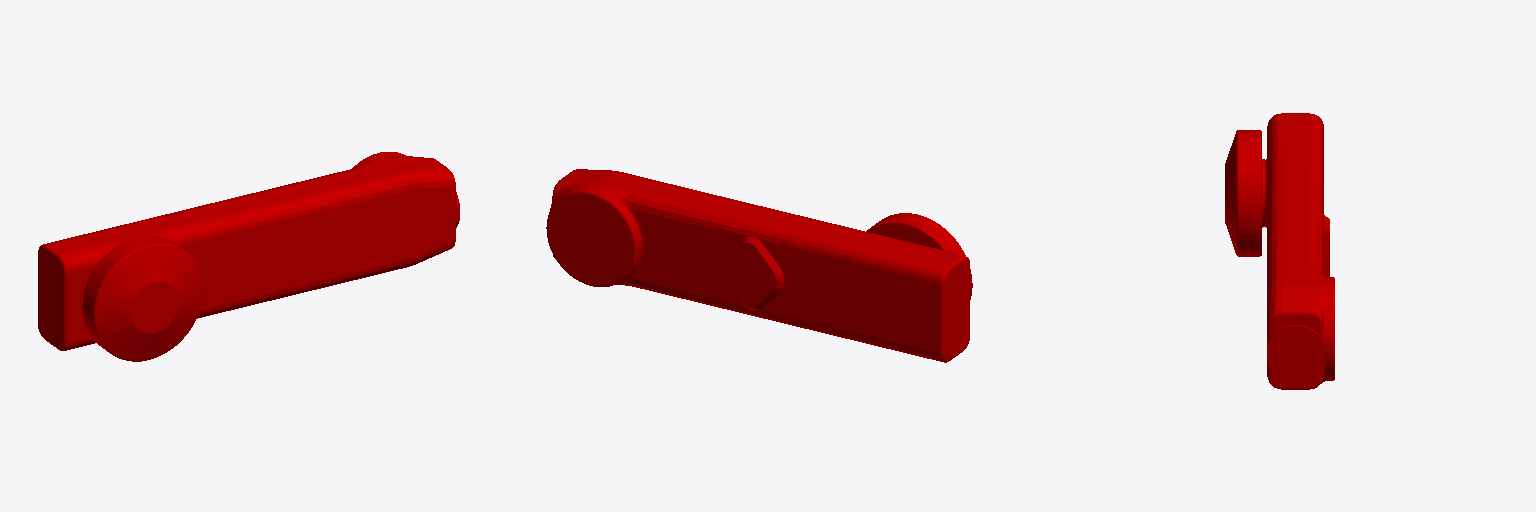
File: solo12_hip_fe_fl.obj
3 renders of one model, left to right at view 1: azimuth 30°, elevation 25°; view 2: azimuth 150°, elevation 25°; view 3: azimuth 270°, elevation 25°, orthographic.
Parts seen in each view (by area): view 1: solo12_hip_fe_fl; view 2: solo12_hip_fe_fl; view 3: solo12_hip_fe_fl.
Part boxes in pixels (bbox=[...]): solo12_hip_fe_fl: bbox=[38, 152, 459, 361]; solo12_hip_fe_fl: bbox=[546, 169, 972, 362]; solo12_hip_fe_fl: bbox=[1225, 113, 1334, 389].
Size of the model in its own units: 0.1614 by 0.045 by 0.0391.